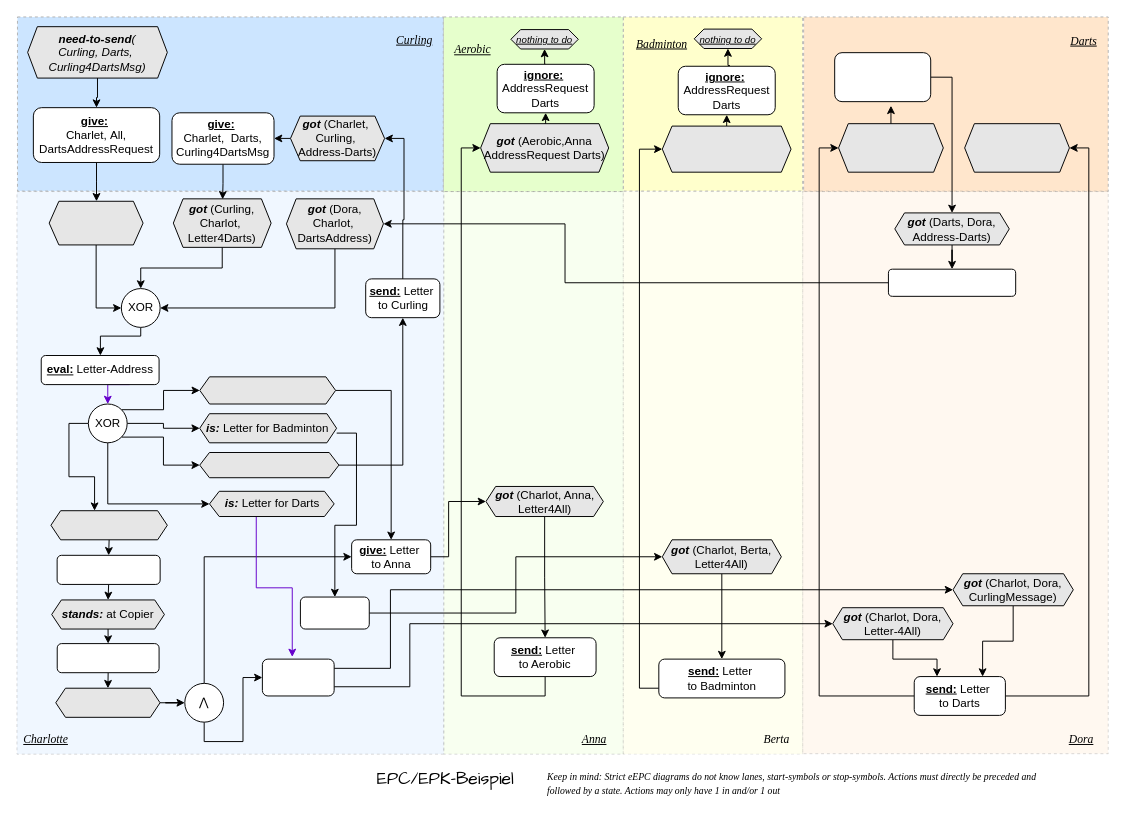
Image size: 1130x817. Some labels were removed from this diagram. The centre of each missing label's shape, as x and y in pixels:
copy: Letter * 2: the point at 107,658
give: Dora, Curling Address-Darts: the point at 882,77
give: Letter to Berta: the point at 334,612
give: Letter to Charlot: the point at 951,282
give: Letter to Dora: the point at 297,677
got (Badminton, Berta AddressRequest Darts): the point at 726,148
got (Curling, Charlot, Letter4All): the point at 95,222
got (Dora, Darts, AddressRequest Darts): the point at 890,147
got (Dora, Darts, CurlingMessage ): the point at 1016,147
goto: Copier: the point at 108,569
has: 3 Letters: the point at 107,702
is: Letter for Aerobic: the point at 267,390
is: Letter for ALL: the point at 108,525
is: Letter for Curling: the point at 269,465
